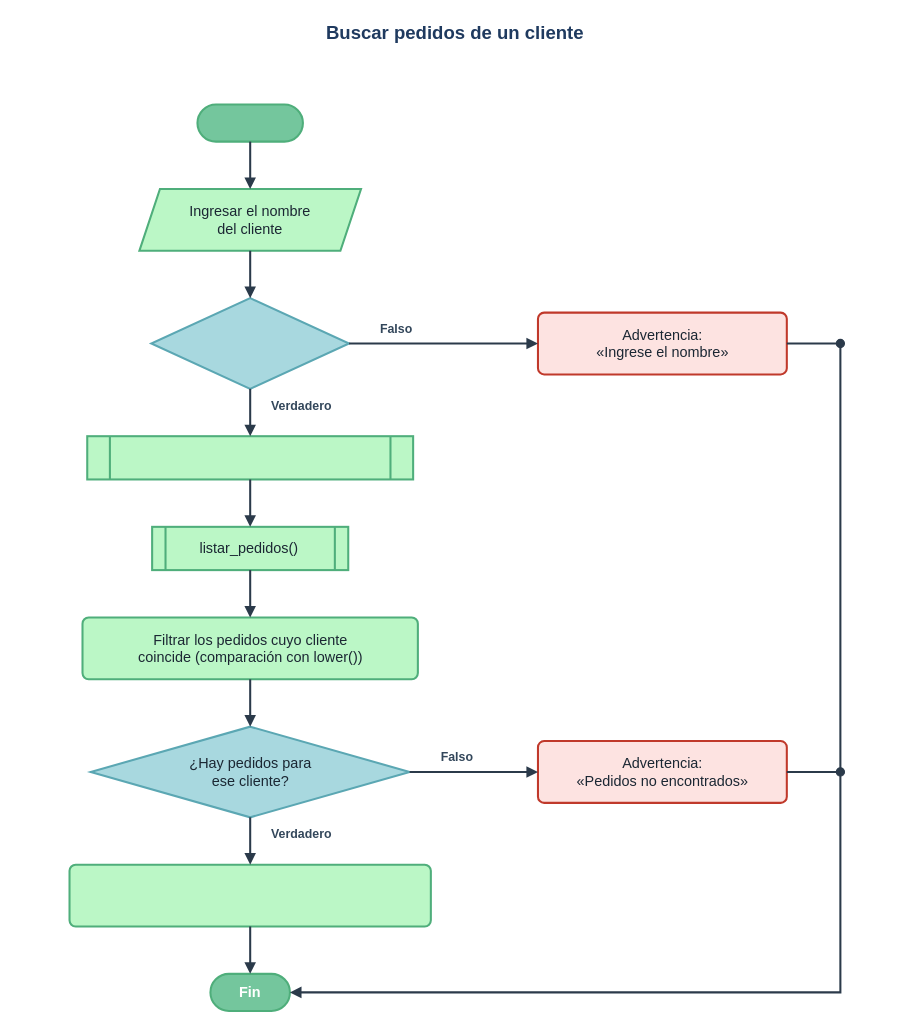
This 908x1029 diagram has some shape labels left out. The shapes that lost their labels are listed below. From the top down, each one's centre as x and y in pixels, then its label:
At point (249, 122): "Inicio".
At point (250, 343): "¿Nombre ingresado?".
At point (250, 457): "buscar_pedidos_cliente(cliente)".
At point (249, 895): "Mostrar solo esos pedidos en la tabla (cliente, producto, cantidad, valor)".
